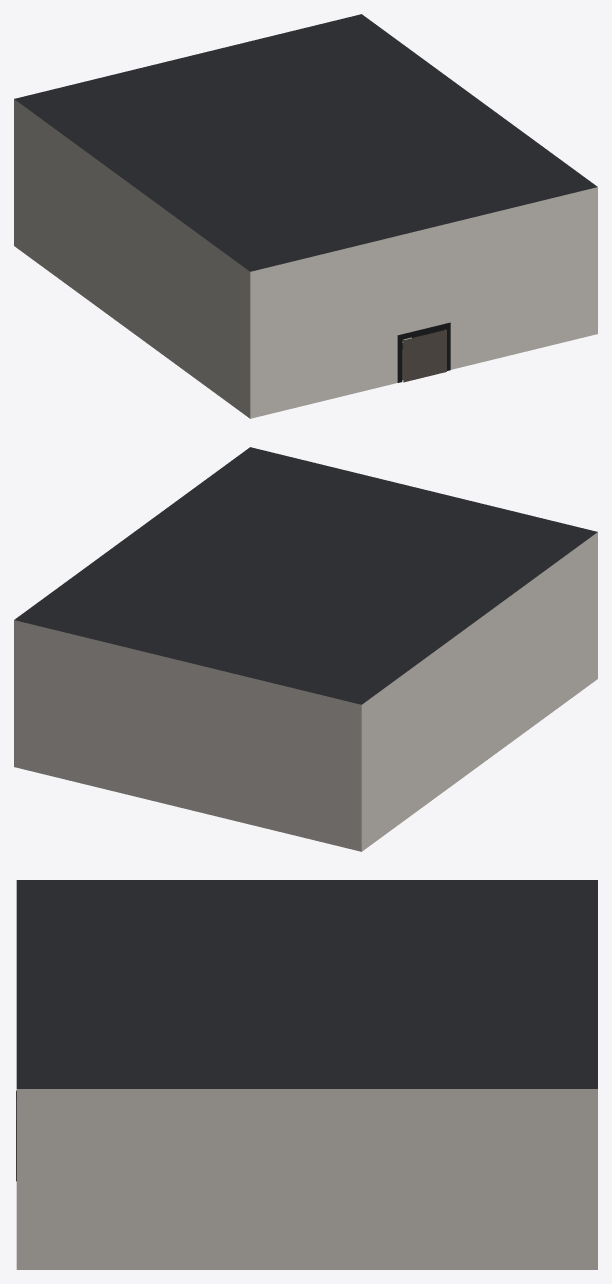
Rendered from hall.glb.
The picture shows the model from 3 angles, top to bottom: view 1: azimuth 30°, elevation 25°; view 2: azimuth 150°, elevation 25°; view 3: azimuth 270°, elevation 25°; orthographic projection. The views are drawn at different scales.
Parts seen in each view (by area): view 1: H_a, view; view 2: H_a; view 3: H_a.
Boxes of the visible parts, x1,y1,x2,y2 form: H_a: (14,14,597,418); view: (403,329,446,382); H_a: (14,447,597,851); H_a: (16,880,597,1269).
Bounding box in the file's own units: 39.6 × 16 × 46.8.
188 materials, 173 textured.
